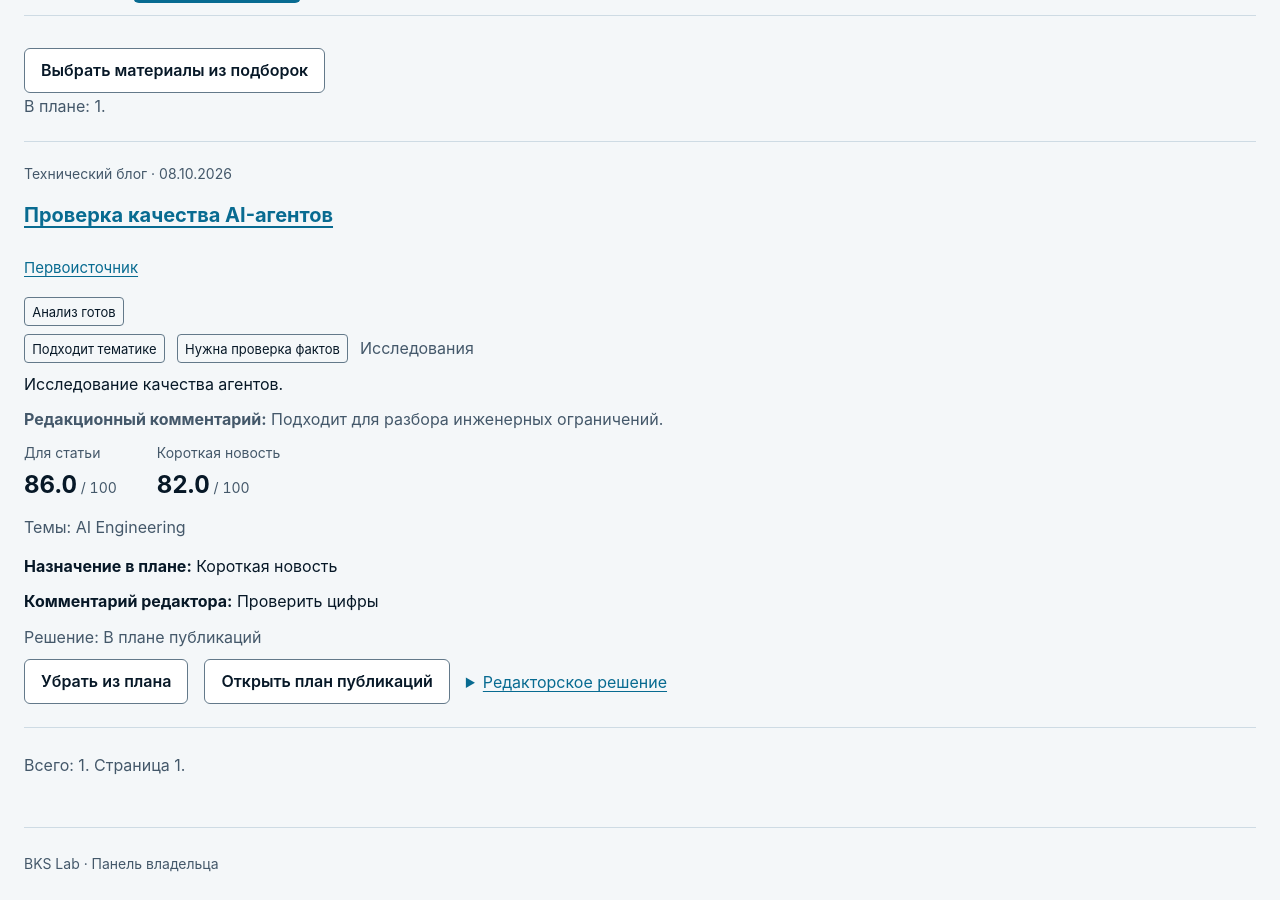
Test: protected editorial routes › renders a publication list with the saved summary, source, ratings, format and notes
(page scrolled)
Expected: the text "Исследование качества агентов." is shown, [24,374,283,394]
Expected: the text "Подходит для разбора инженерных ограничений." is shown, [271,409,663,429]
Click the heading "Редакторское решение": (575, 682) [483,672,667,692]
(page scrolled)
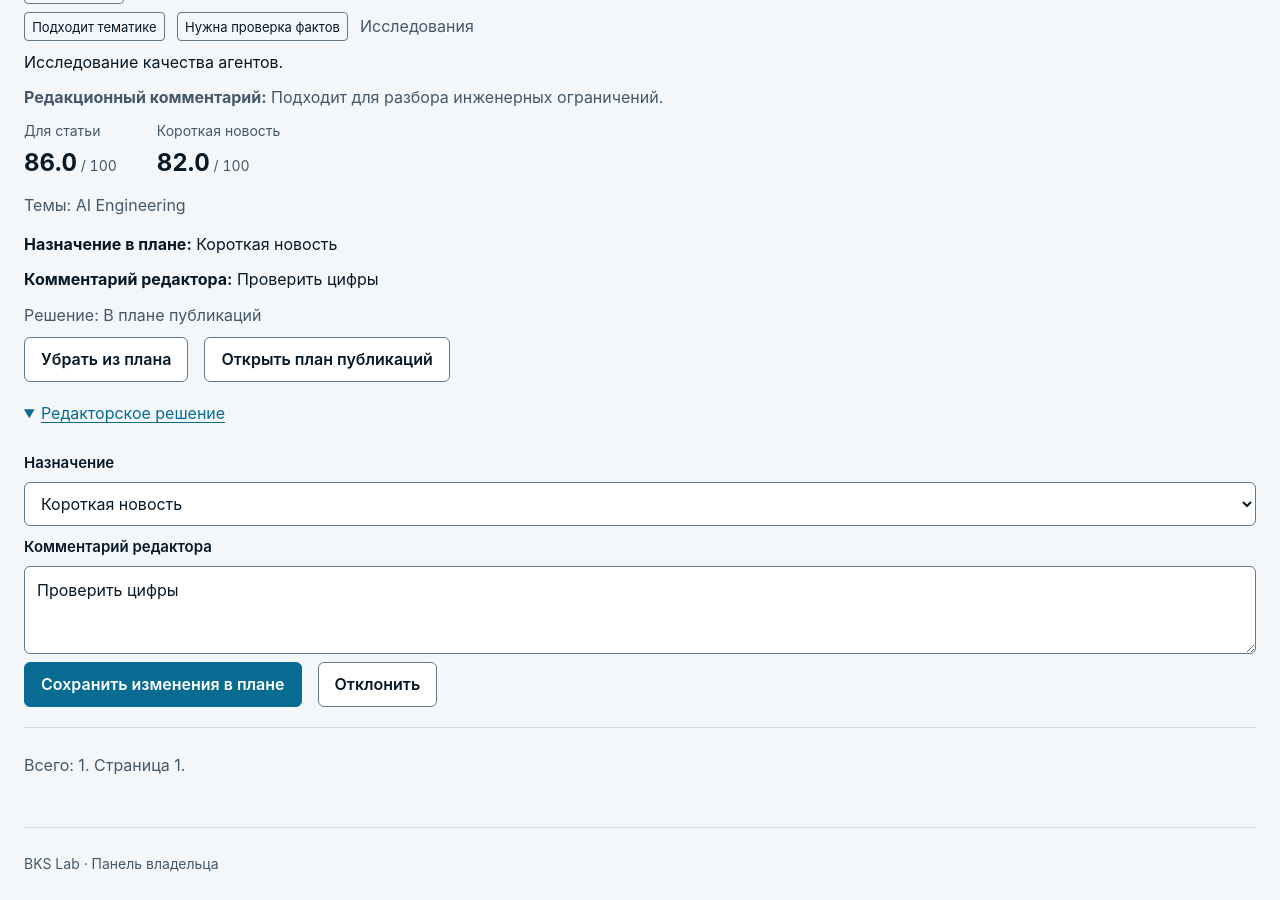
Now the button "Сохранить изменения в плане" is shown, box [24,662,302,707]
Now the button "Отклонить" is shown, box [318,662,437,707]
Now the text box labelled "Комментарий редактора" holds "Проверить цифры", box [24,566,1256,654]
